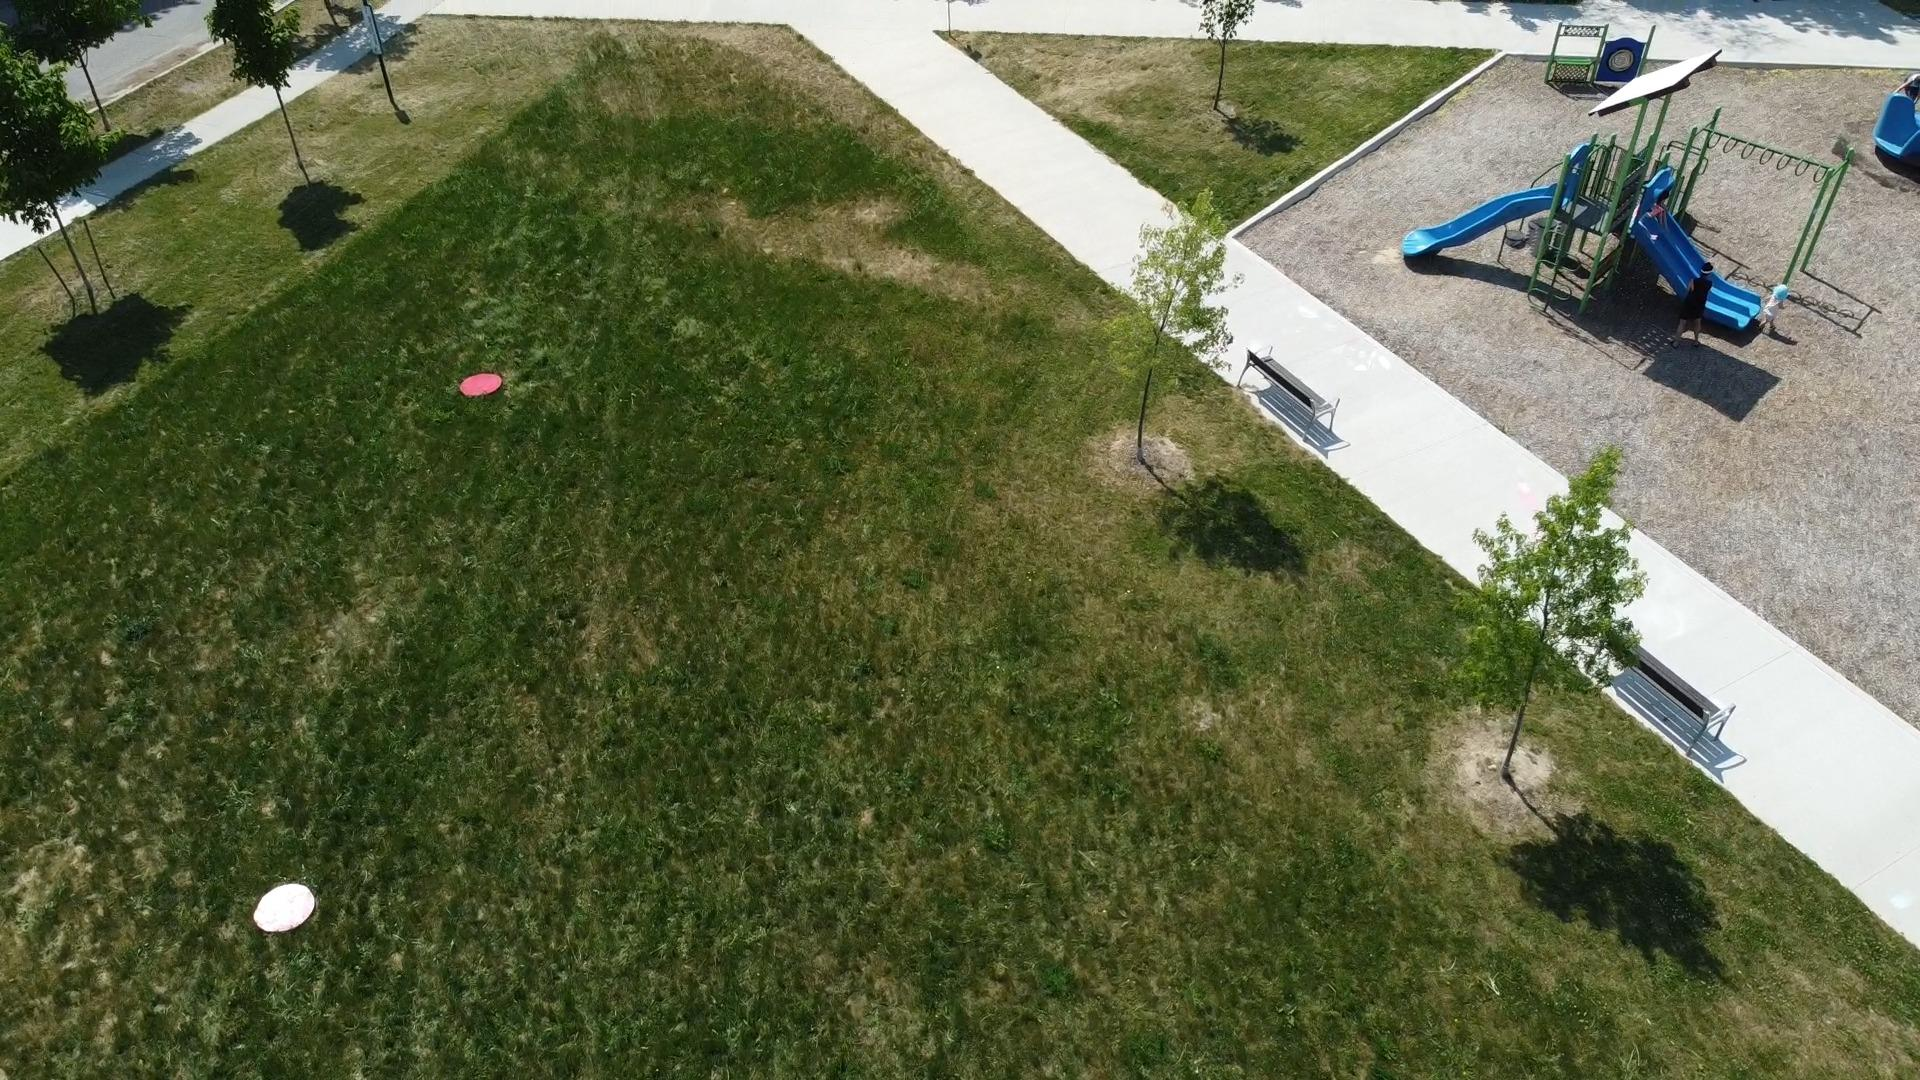Red: (459, 371, 502, 397)
Unknown: (251, 881, 322, 936)
